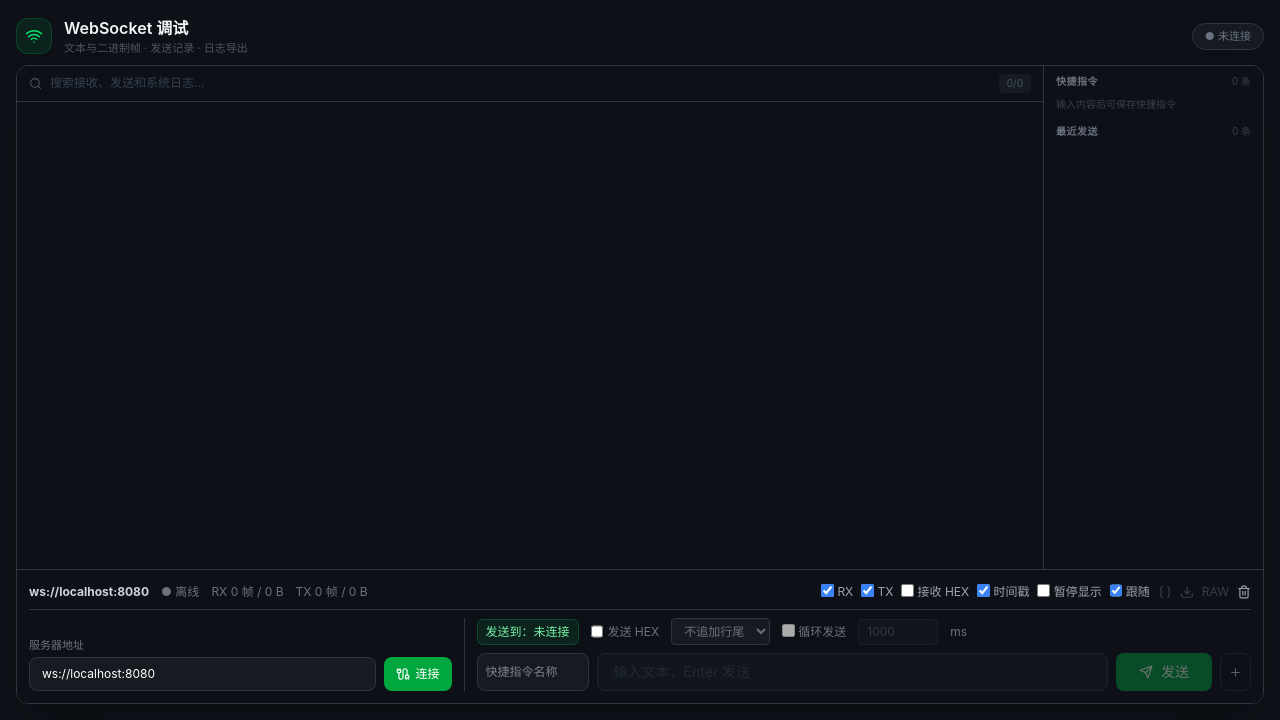
Test: WebSocketDebugger independent transport › rejects an invalid endpoint without creating a socket
The image size is (1280, 720).
Replace the text in the field labelled "服务器地址" with "http://localhost:8080" at (202, 674), box left=29, top=657, right=376, bottom=691
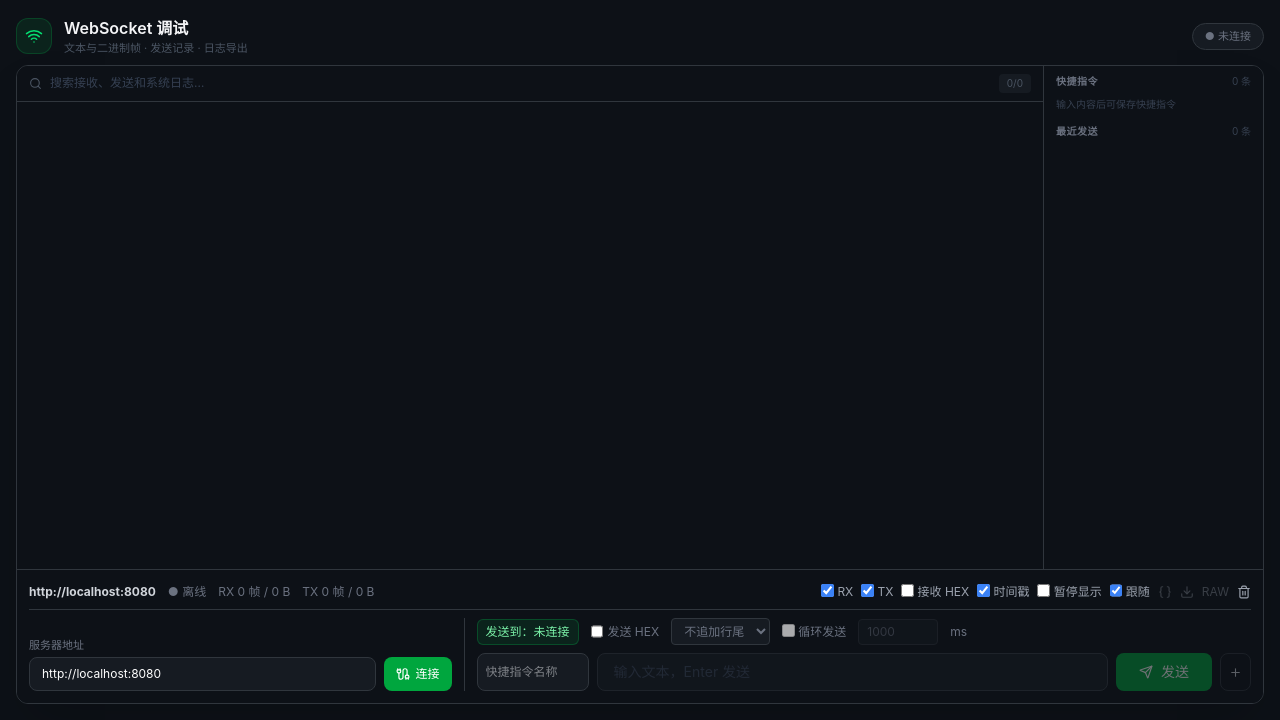
Click the button "连接" at (418, 674), box left=384, top=657, right=452, bottom=691
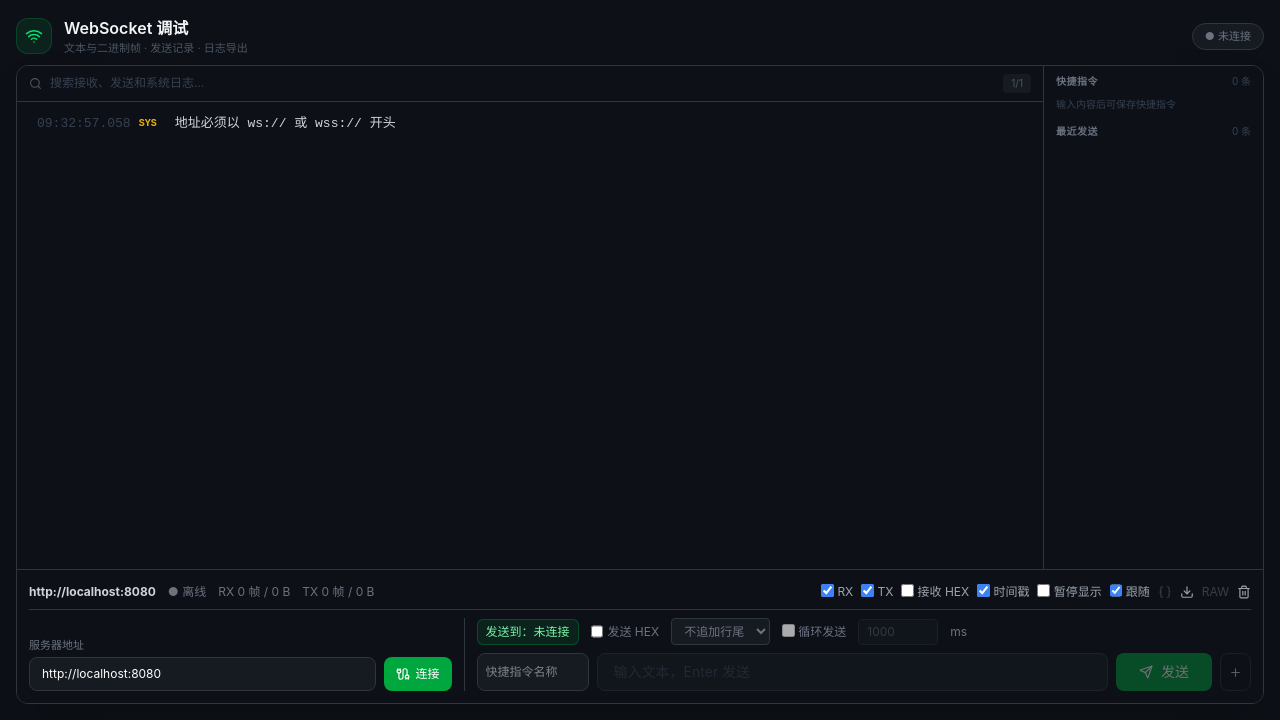
Expected: the text "地址必须以 ws:// 或 wss:// 开头" is shown, left=175, top=114, right=396, bottom=134
